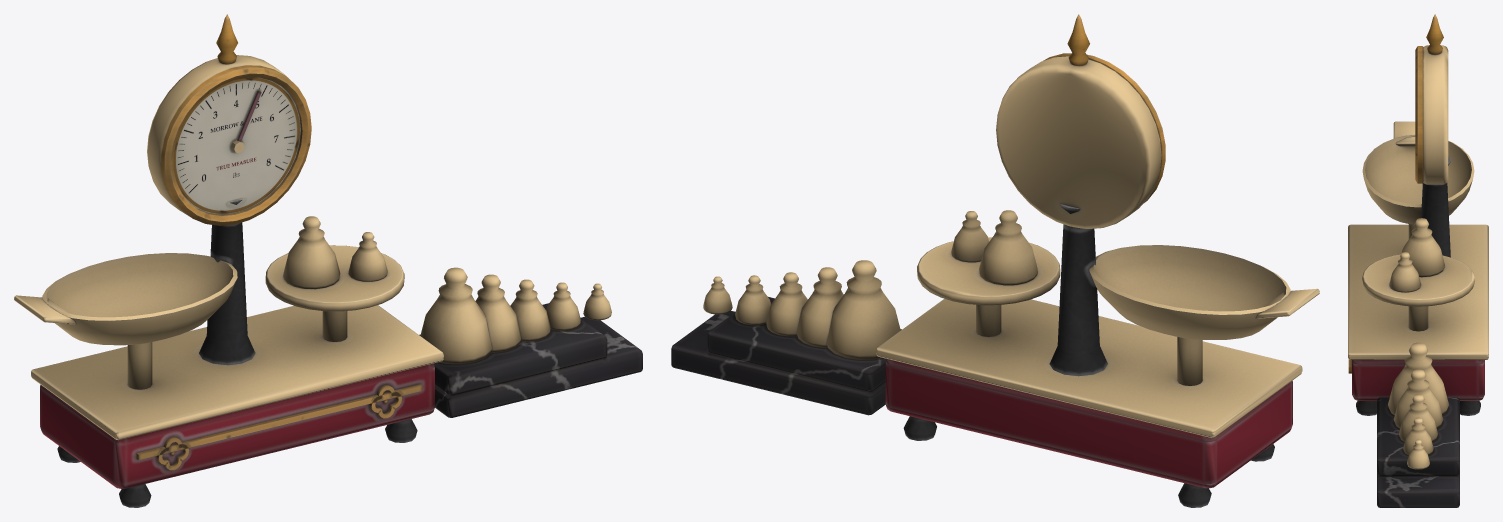
The model's file is ShopScales.fbx.
3 renders of one model, left to right at view 1: azimuth 30°, elevation 25°; view 2: azimuth 150°, elevation 25°; view 3: azimuth 270°, elevation 25°, orthographic. The views are drawn at different scales.
Visible parts, largest first — view 1: ShopScales; view 2: ShopScales; view 3: ShopScales.
Boxes of the visible parts, x1,y1,x2,y2 form: ShopScales: [14, 14, 642, 507]; ShopScales: [671, 14, 1319, 507]; ShopScales: [1348, 14, 1488, 507].
Size of the model in its own units: 333 by 229 by 85.
